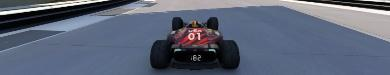Car: (149, 16, 240, 69)
obstacles-Borders: (0, 0, 141, 36)
